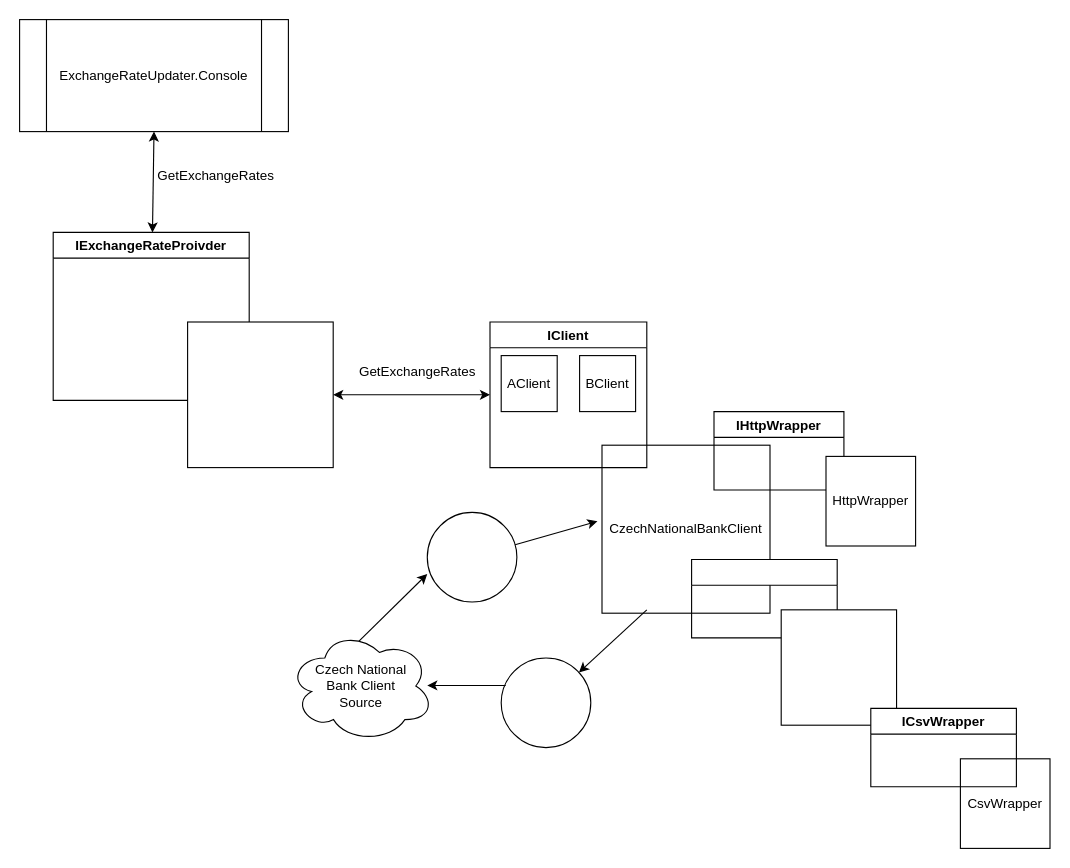
Some shapes in this 1070 by 868 pixel diagram are drawn without their labels. Here are the shapes that lost their labels. From the top down, the centre of each, then its label:
point 259,394: ExchangeRateProvider
point 471,556: Parse Response
point 763,598: IResponseParser
point 838,667: Czech National Bank Response Parser
point 545,702: Get Exchange Rates
